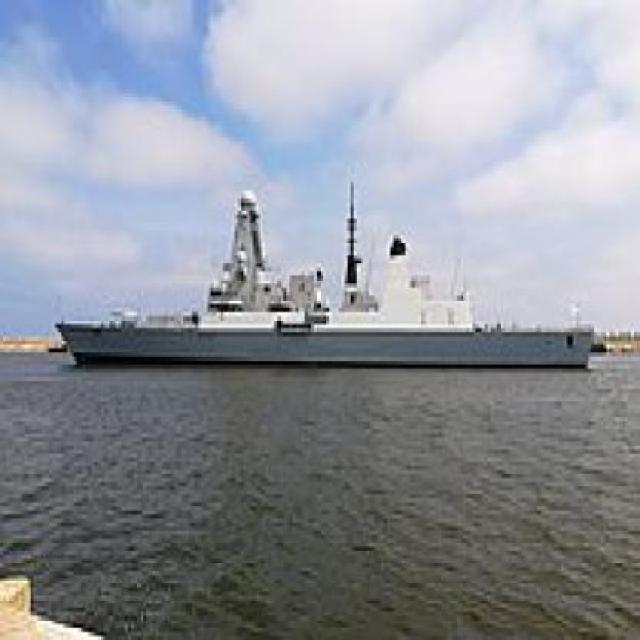warship2: (59, 150, 602, 378)
